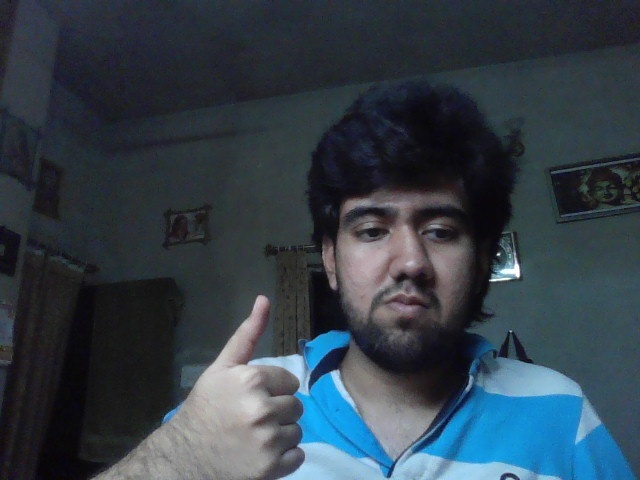Ok: (191, 295, 304, 480)
